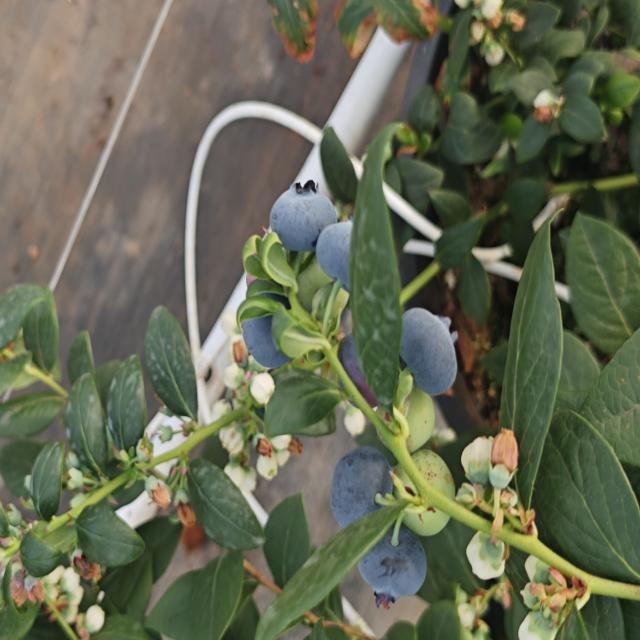ripe: (397, 304, 460, 398), (267, 177, 339, 256), (236, 288, 303, 372), (330, 432, 389, 527), (312, 212, 368, 299), (361, 536, 434, 595), (340, 323, 384, 413)
